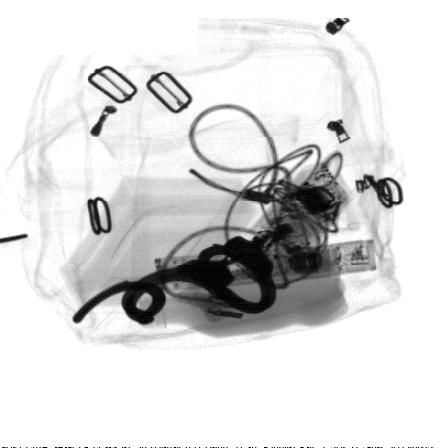Baton: (152, 237, 378, 293)
HandCuffs: (70, 234, 278, 327)
